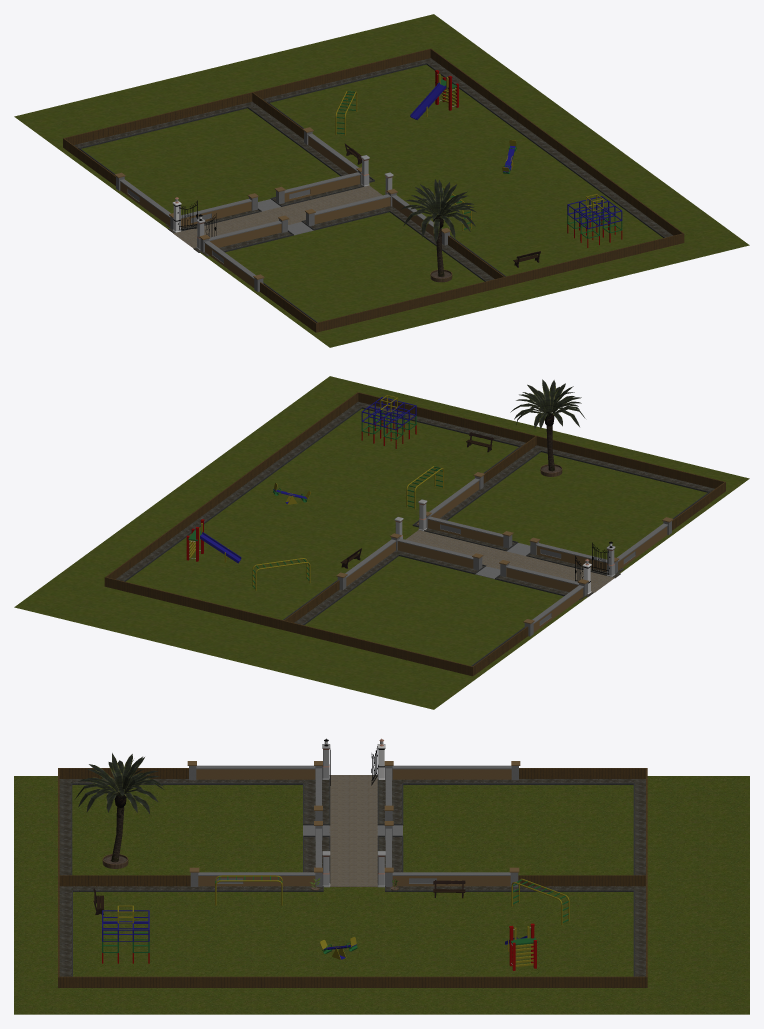
3 views of the same model, one above another, from view 1: azimuth 30°, elevation 25°; view 2: azimuth 150°, elevation 25°; view 3: azimuth 270°, elevation 25° (orthographic). The views are drawn at different scales.
Parts seen in each view (by area): view 1: Ground_Base, Fences, Wall, Fences1, Road, Palm_Tree6, Ride03, Boder10, Mud4, Mud5, Ride01, Mud1 (+7 smaller); view 2: Ground_Base, Fences, Wall, Fences1, Road, Palm_Tree6, Ride03, Boder10, Mud5, Mud3, Mud4, Ride01 (+7 smaller); view 3: Ground_Base, Fences, Wall, Road, Palm_Tree6, Fences1, Mud3, Mud2, Mud1, Mud5, Boder10, Ride03 (+10 smaller).
Boxes of the visible parts, bbox=[...] form: Ground_Base: bbox=[14, 14, 749, 347]; Fences: bbox=[252, 48, 684, 286]; Wall: bbox=[119, 133, 442, 287]; Fences1: bbox=[63, 92, 504, 332]; Road: bbox=[173, 185, 382, 248]; Palm_Tree6: bbox=[400, 179, 476, 282]; Ride03: bbox=[567, 194, 622, 247]; Boder10: bbox=[267, 63, 664, 276]; Mud4: bbox=[369, 62, 555, 180]; Mud5: bbox=[549, 150, 672, 237]; Ride01: bbox=[410, 70, 458, 119]; Mud1: bbox=[74, 101, 275, 228]; Ground_Base: bbox=[14, 376, 749, 709]; Fences: bbox=[104, 392, 536, 630]; Wall: bbox=[345, 478, 668, 632]; Fences1: bbox=[284, 436, 725, 676]; Road: bbox=[405, 530, 614, 592]; Palm_Tree6: bbox=[510, 379, 585, 476]; Ride03: bbox=[361, 395, 416, 448]; Boder10: bbox=[124, 407, 521, 620]; Mud5: bbox=[232, 405, 418, 525]; Mud3: bbox=[512, 445, 714, 572]; Mud4: bbox=[116, 494, 239, 581]; Ride01: bbox=[186, 519, 241, 563]; Ground_Base: bbox=[14, 776, 749, 1014]; Fences: bbox=[58, 875, 647, 987]; Wall: bbox=[196, 765, 511, 886]; Road: bbox=[329, 775, 377, 886]; Palm_Tree6: bbox=[75, 753, 164, 868]; Fences1: bbox=[58, 768, 647, 875]; Mud3: bbox=[59, 779, 315, 875]; Mud2: bbox=[59, 886, 646, 987]; Mud1: bbox=[392, 779, 645, 875]; Mud5: bbox=[72, 886, 322, 890]; Boder10: bbox=[72, 886, 634, 976]; Ride03: bbox=[102, 905, 149, 963].
Size of the model in its own units: 41.36 by 8.83 by 53.77.
16 materials, 11 textured.
